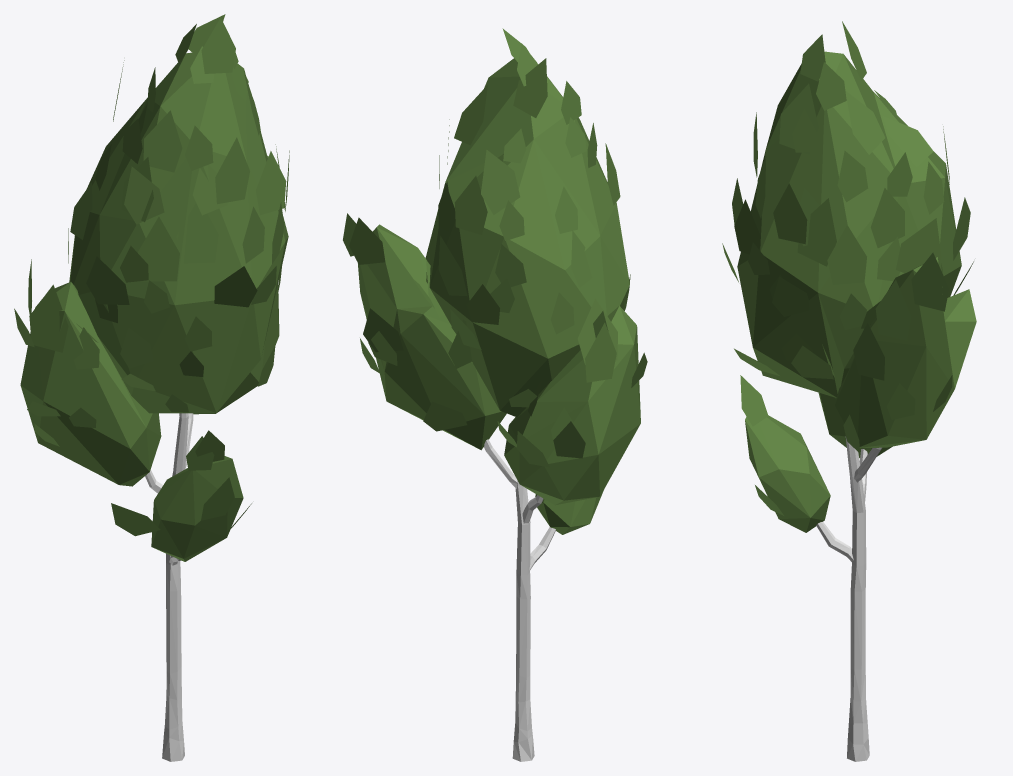
File: tree-poplar-young-a.gltf
3 views of the same model, side by side, from view 1: azimuth 30°, elevation 25°; view 2: azimuth 150°, elevation 25°; view 3: azimuth 270°, elevation 25° (orthographic). The views are drawn at different scales.
Visible parts, largest first — view 1: tree-poplar-young-a; view 2: tree-poplar-young-a; view 3: tree-poplar-young-a.
Part boxes in pixels (left/top/right/bottom): tree-poplar-young-a: left=14, top=14, right=289, bottom=761; tree-poplar-young-a: left=343, top=28, right=647, bottom=761; tree-poplar-young-a: left=722, top=21, right=976, bottom=761.
Bounding box in the file's own units: 0.0305 × 0.074 × 0.0263.
